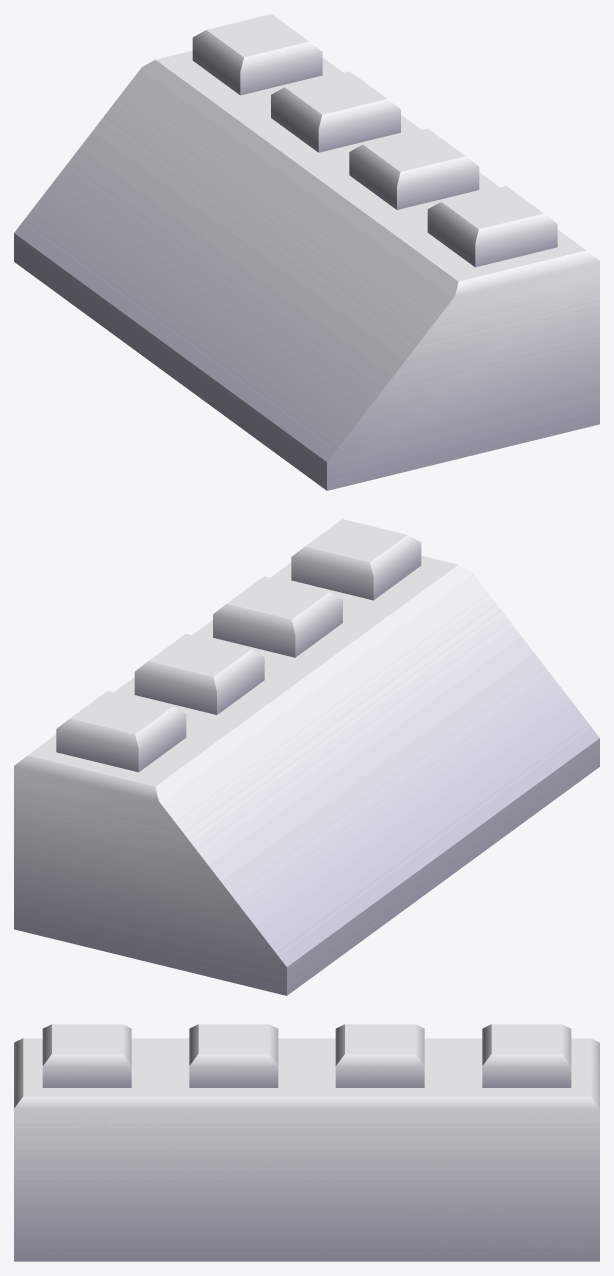
Rendered from square-hq-brick-slope-2x4.glb.
3 renders of one model, top to bottom at view 1: azimuth 30°, elevation 25°; view 2: azimuth 150°, elevation 25°; view 3: azimuth 270°, elevation 25°, orthographic. The views are drawn at different scales.
Visible parts, largest first — view 1: square-hq-brick-slope-2x4; view 2: square-hq-brick-slope-2x4; view 3: square-hq-brick-slope-2x4.
Boxes of the visible parts, x1,y1,x2,y2 form: square-hq-brick-slope-2x4: [14, 14, 599, 490]; square-hq-brick-slope-2x4: [14, 519, 599, 995]; square-hq-brick-slope-2x4: [14, 1024, 599, 1261].
Size of the model in its own units: 0.795 by 0.57 by 1.58.
Materials: 1 (1 with a texture image).
